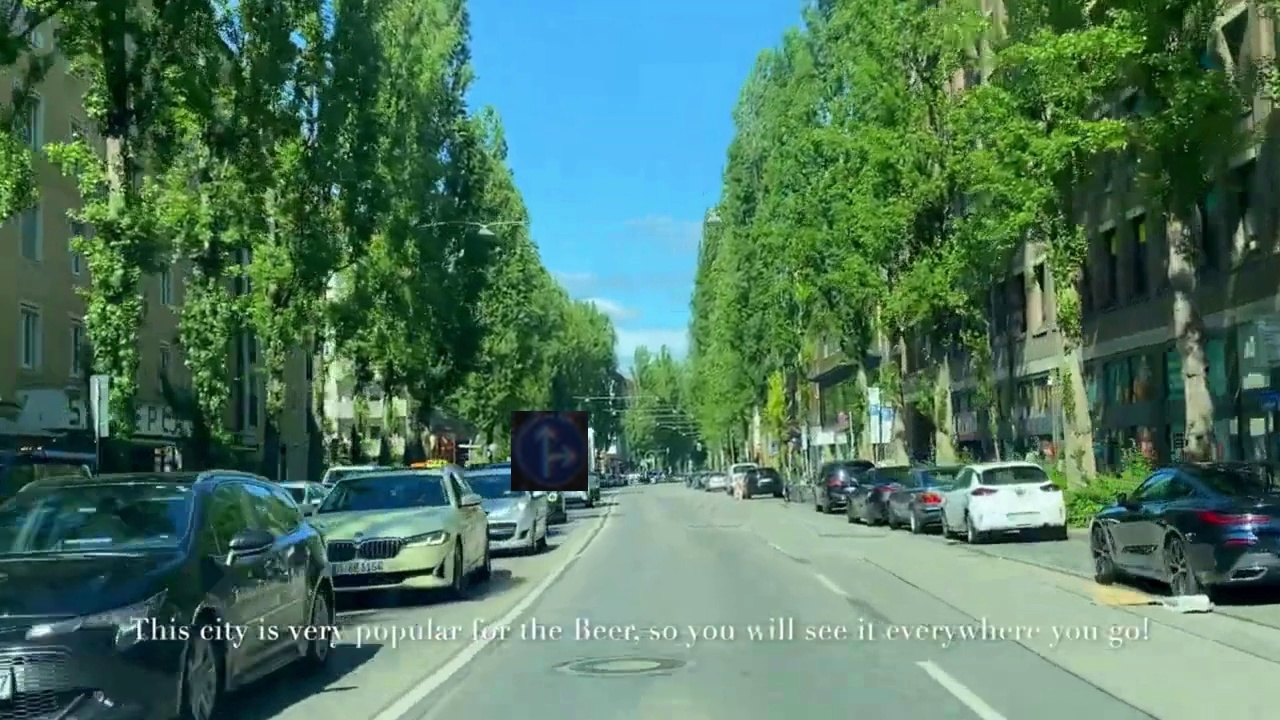Straight/right: (511, 411, 588, 491)
